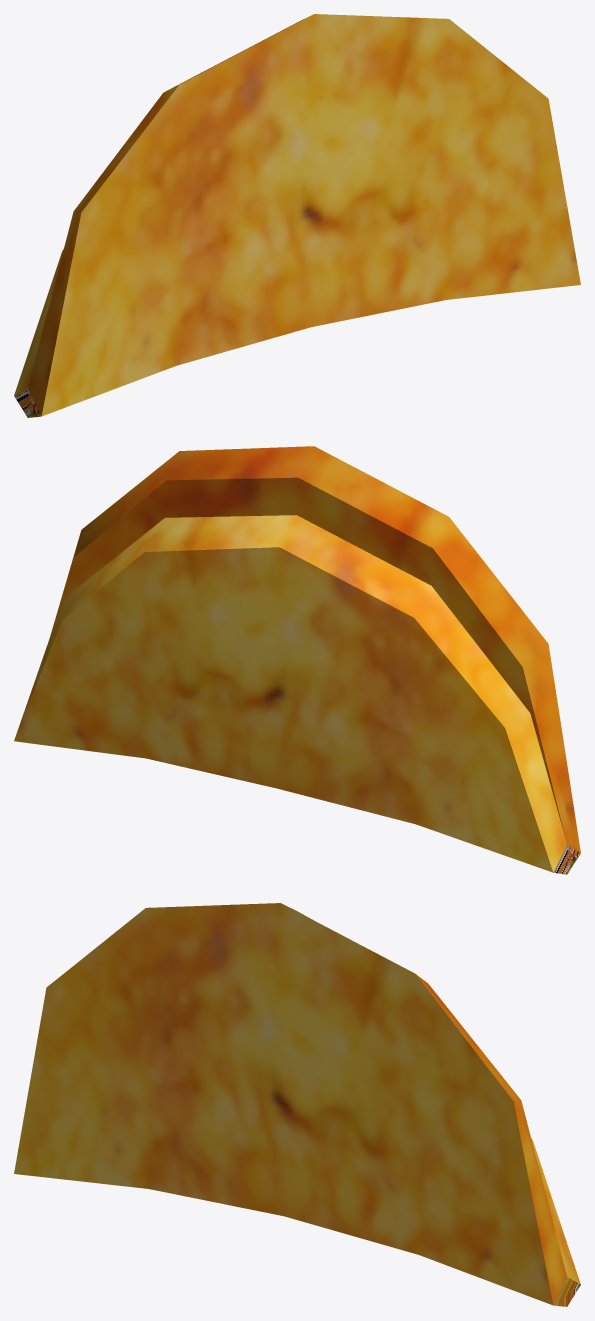
The model's file is Omelette.fbx.
The picture shows the model from 3 angles, top to bottom: view 1: azimuth 30°, elevation 25°; view 2: azimuth 150°, elevation 25°; view 3: azimuth 330°, elevation 25°; orthographic projection.
Visible parts, largest first — view 1: Omelette; view 2: Omelette; view 3: Omelette.
Boxes of the visible parts, x1,y1,x2,y2 form: Omelette: [14, 14, 580, 417]; Omelette: [14, 446, 580, 874]; Omelette: [14, 903, 580, 1306].
Bounding box in the file's own units: 15.84 × 2.14 × 9.83.
